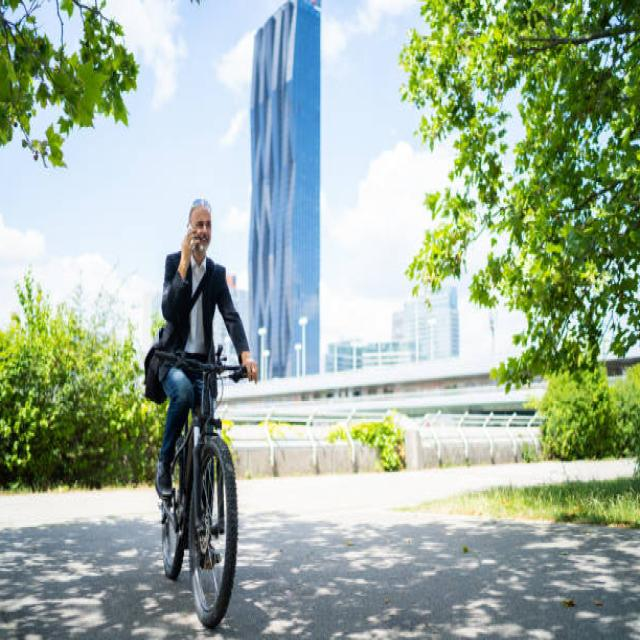bicycle: (146, 199, 259, 627)
